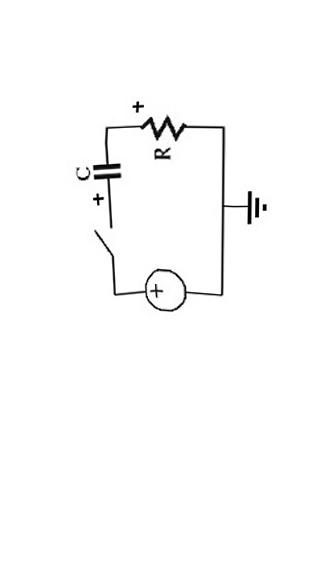Battery: (131, 250, 204, 323)
